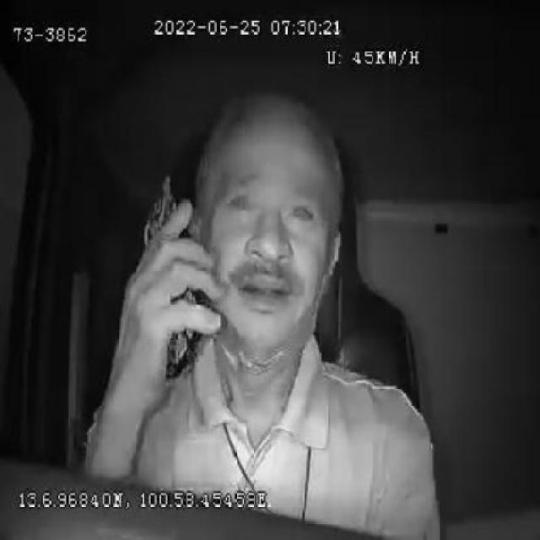phone: (140, 169, 204, 376)
